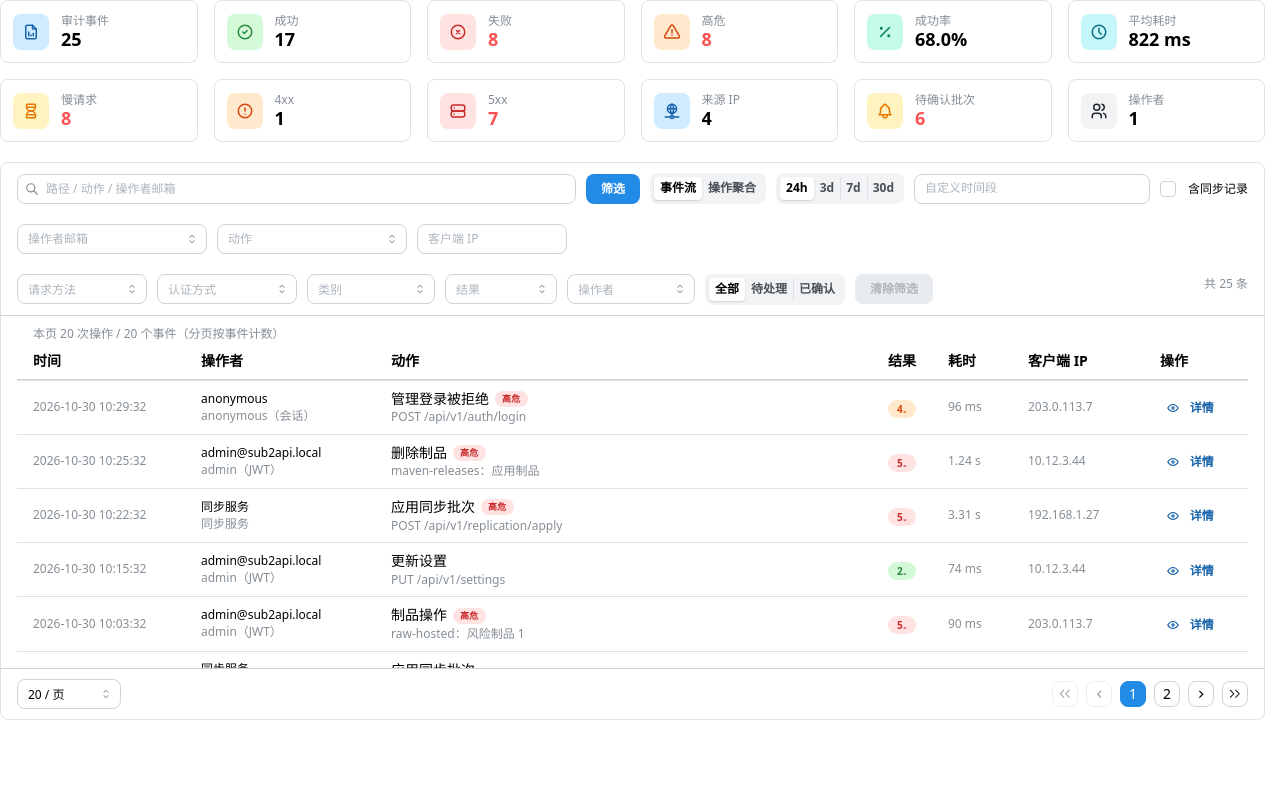
Test case: 审计工作台（单列表 + 顶部 KPI） › 点击行内展开脱敏详情
The image size is (1280, 800).
Click the button with aria-label "审计事件：".
click(90, 407)  # box top-left (17, 380), bottom-right (1248, 435)
(page scrolled)
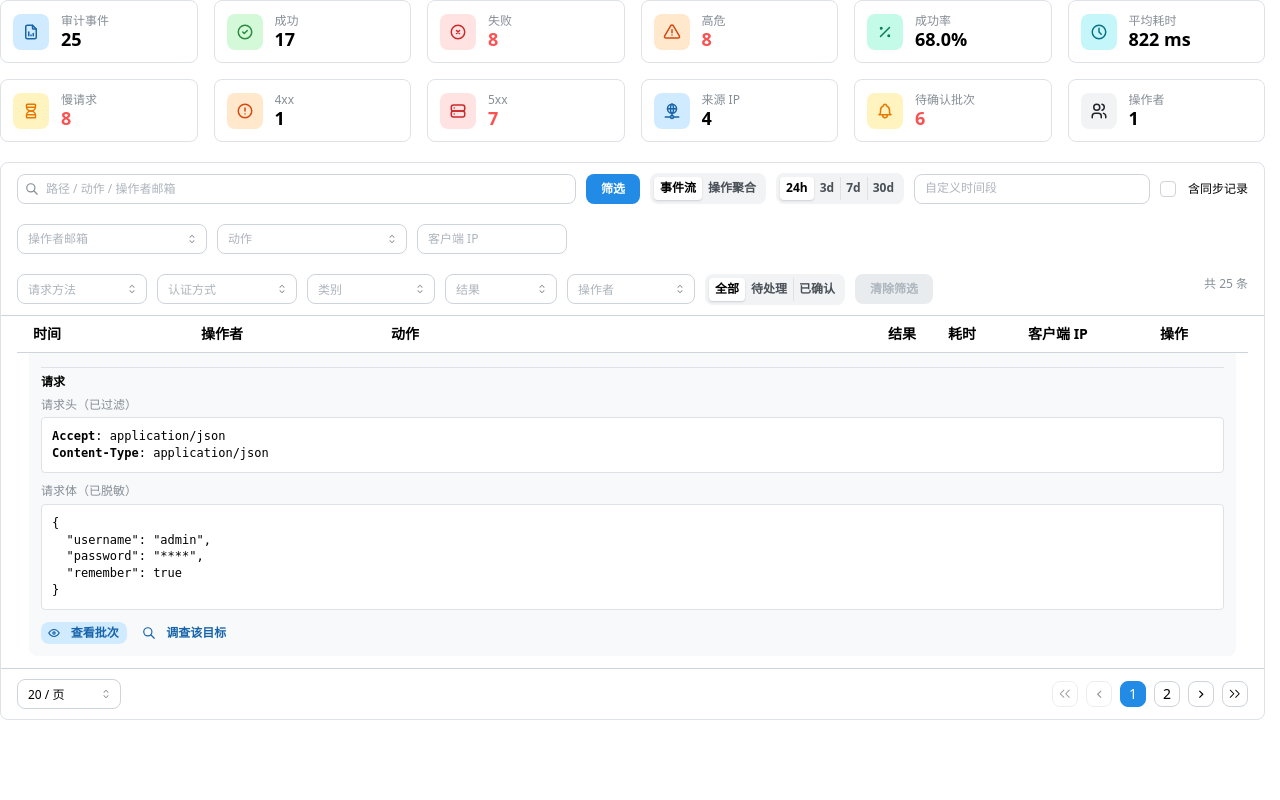
Check: the text "请求体（已脱敏）" is shown, box top-left (41, 482), bottom-right (137, 499)
